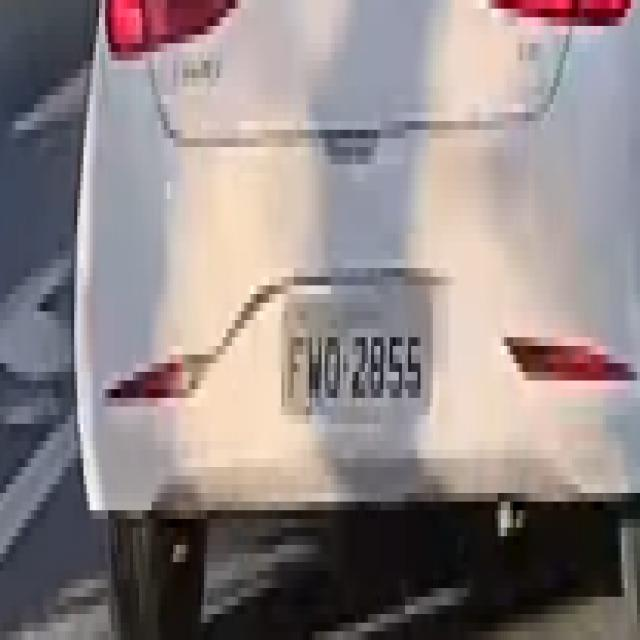Placa_mercosul_carro: (280, 284, 434, 419)
